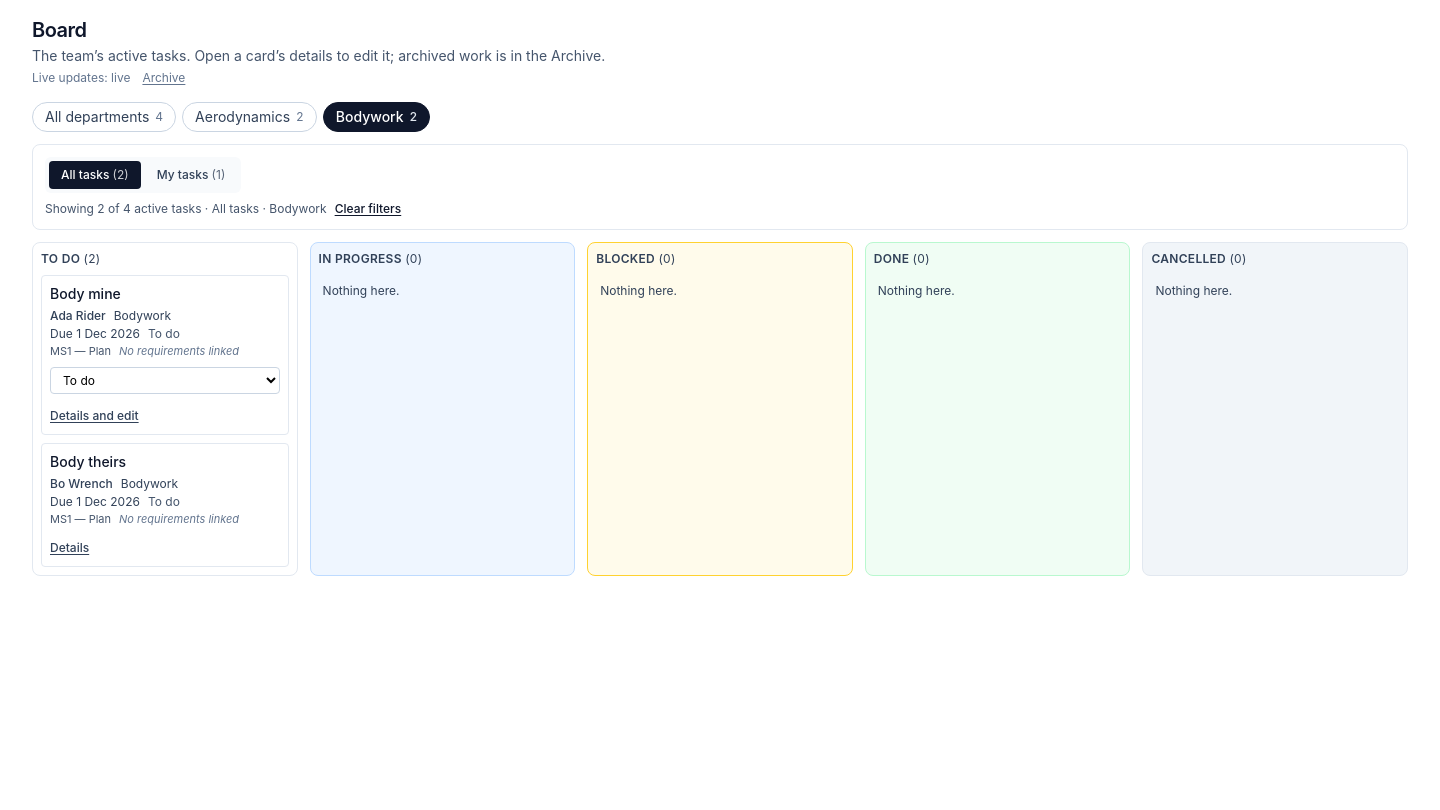
the details editor › lets an owner edit their fields but not reassign, and says who can
Click the heading "Details and edit".
click(94, 416)  # box x1=50 y1=408 x2=139 y2=424
(page scrolled)
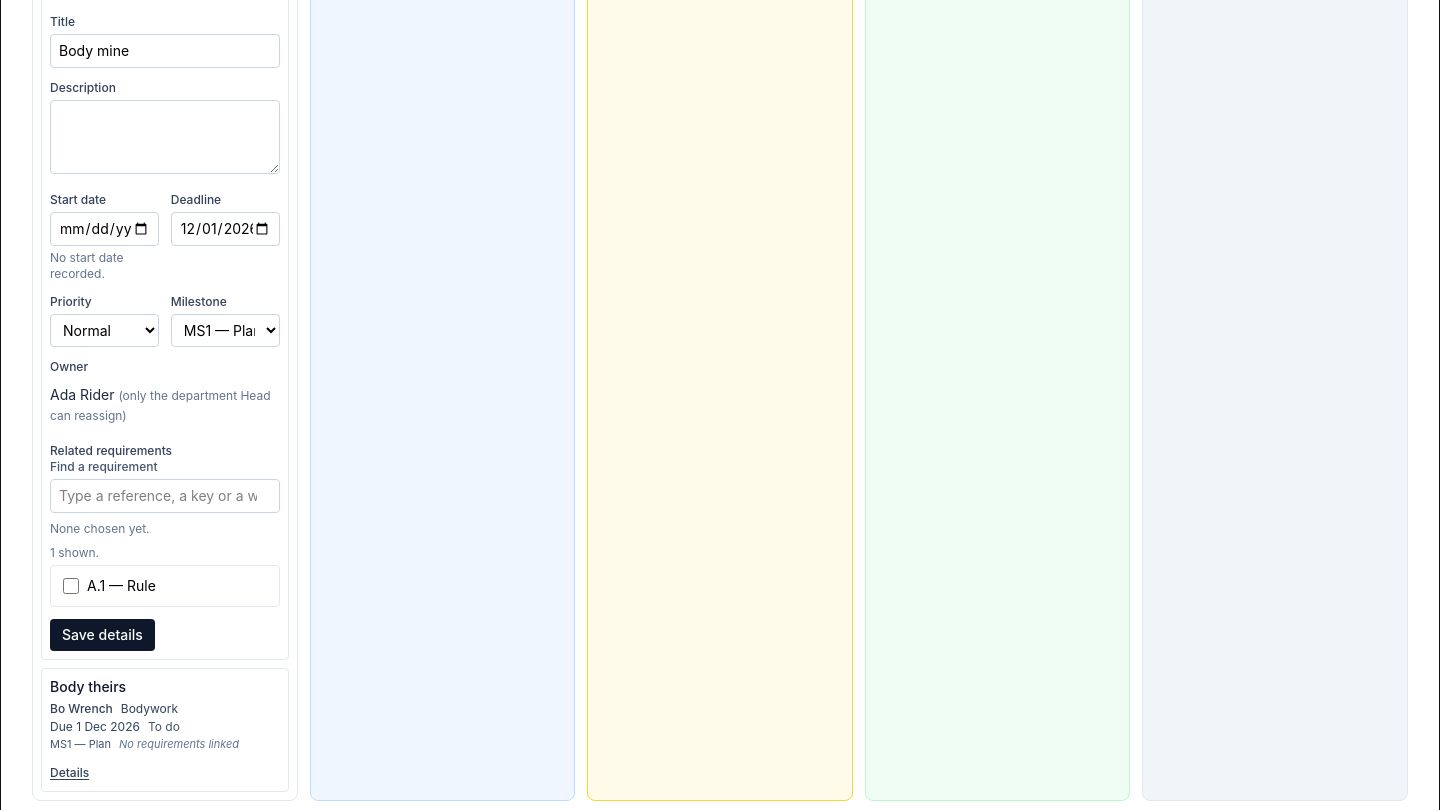
expect the date field labelled "Deadline" is shown: met, box x1=171 y1=212 x2=280 y2=246
expect the text "(only the department Head can reassign)" is shown: met, box x1=50 y1=388 x2=271 y2=423
